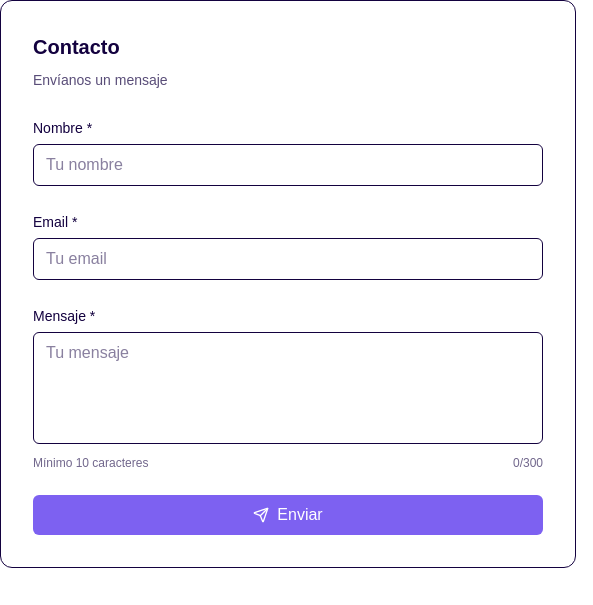
ContactForm › email inválido
Note: Llenar campos
Type "Juan" into the field with placeholder "Tu nombre" at (288, 165), box top-left (33, 144), bottom-right (543, 186)
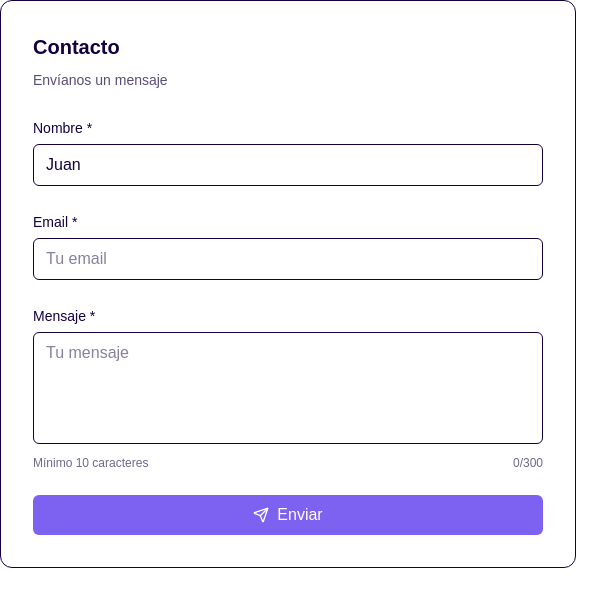
Type "Mensaje válido suficiente" into the text box with placeholder "Tu mensaje" at (288, 388), box top-left (33, 332), bottom-right (543, 444)
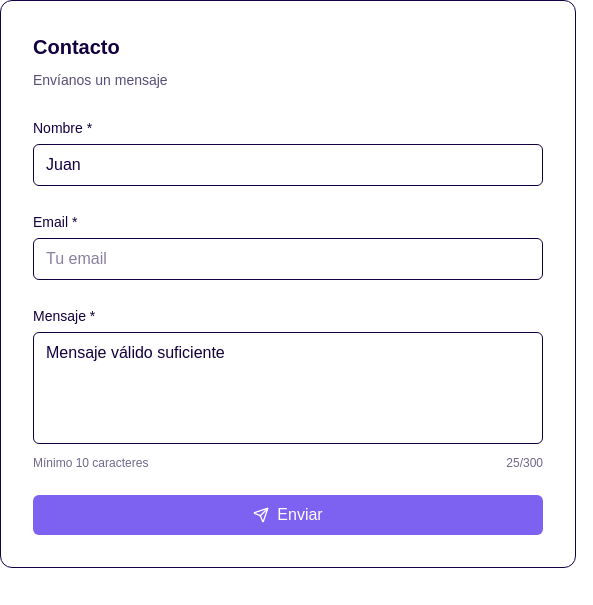
Type "abc" into the field with placeholder "Tu email" at (288, 259), box top-left (33, 238), bottom-right (543, 280)
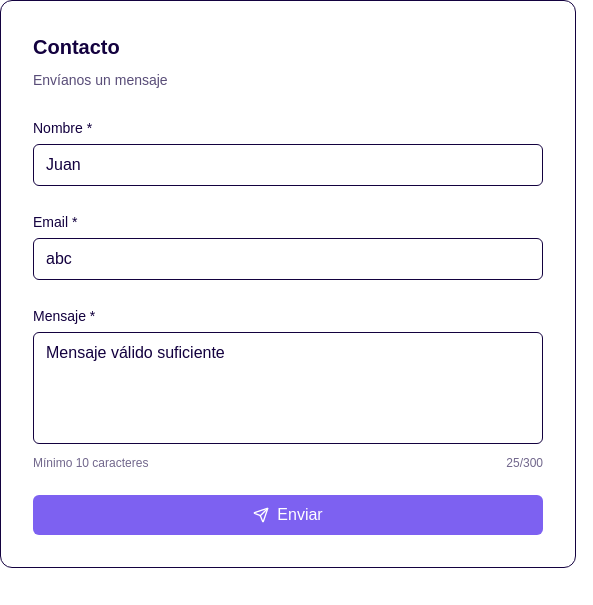
Submit the form with placeholder "Tu email"
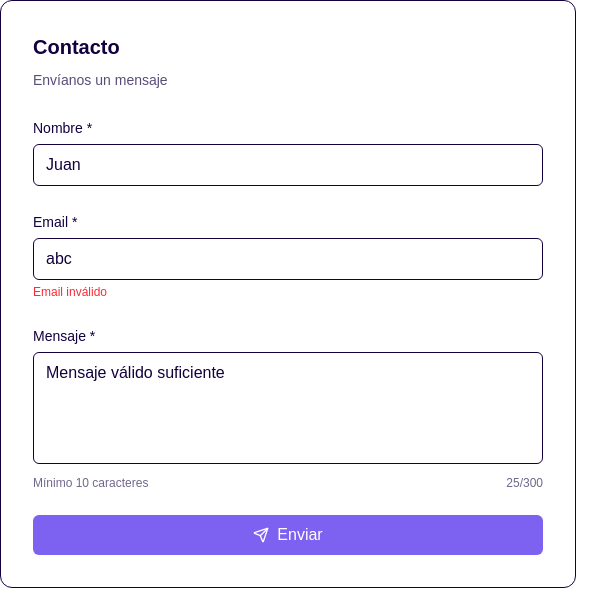
Result: the text "Email inválido" is shown at top-left (33, 285), bottom-right (107, 299)
